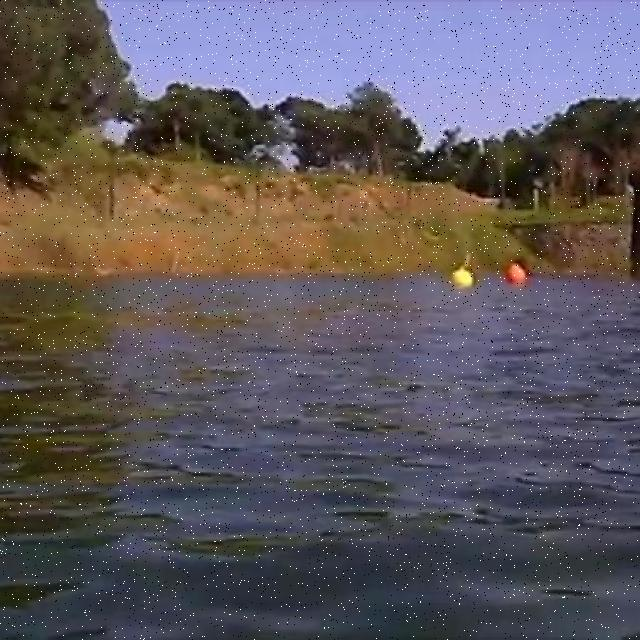buoy: (451, 266, 474, 286), (507, 263, 526, 283)
